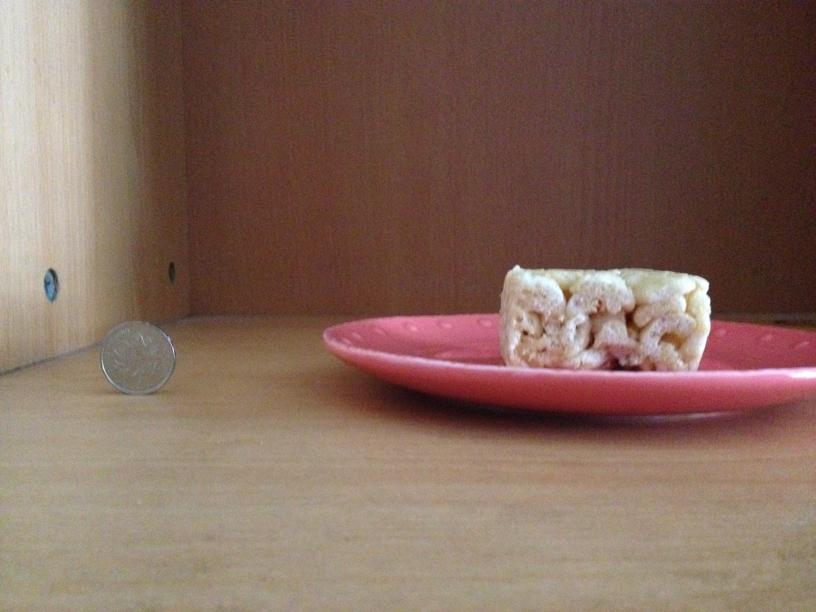coin: (99, 323, 176, 393)
sachima: (496, 264, 713, 376)
